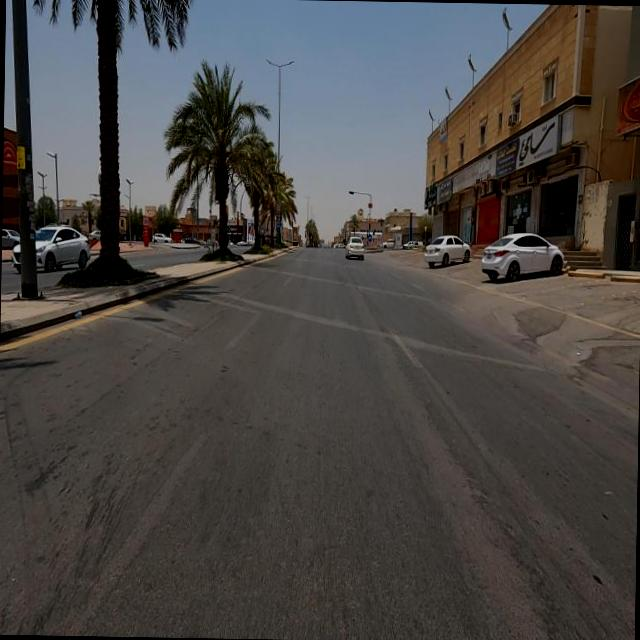debris: (432, 132, 504, 221)
